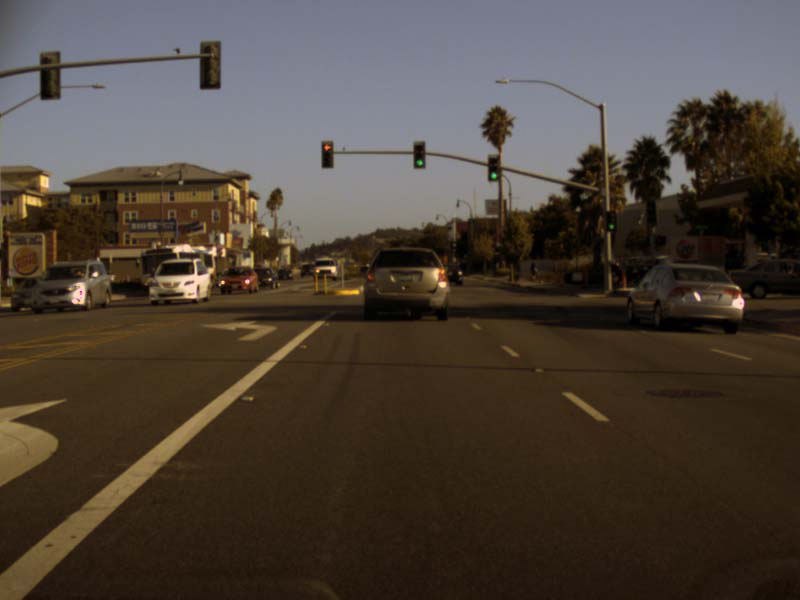Green: (487, 153, 501, 181), (413, 140, 425, 168), (606, 211, 616, 230)
Red: (321, 141, 333, 168)
